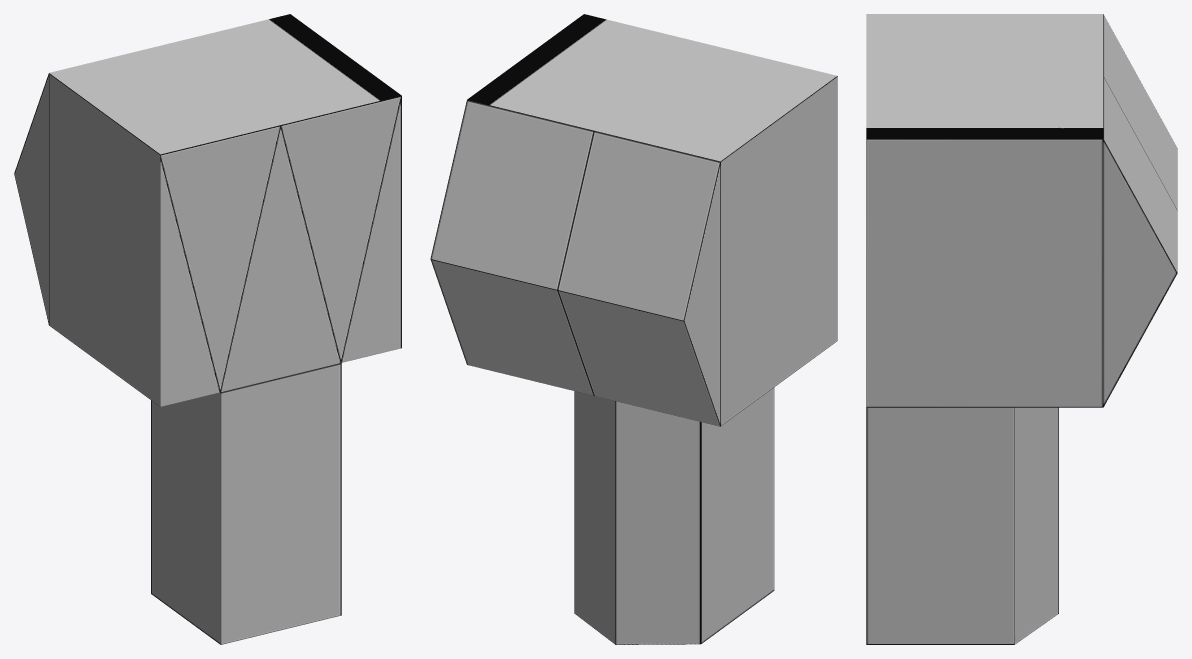
Rendered from house_2.dae.
The picture shows the model from 3 angles, left to right: view 1: azimuth 30°, elevation 25°; view 2: azimuth 150°, elevation 25°; view 3: azimuth 270°, elevation 25°; orthographic projection. The views are drawn at different scales.
Parts seen in each view (by area): view 1: house_0; view 2: house_0; view 3: house_0.
Boxes of the visible parts, box(x1,y1,x2,y2) form: house_0: box(14, 14, 401, 644); house_0: box(430, 14, 837, 644); house_0: box(866, 14, 1177, 644).
Bounding box in the file's own units: 1 × 1.05 × 2.
Materials: 1 (1 with a texture image).
